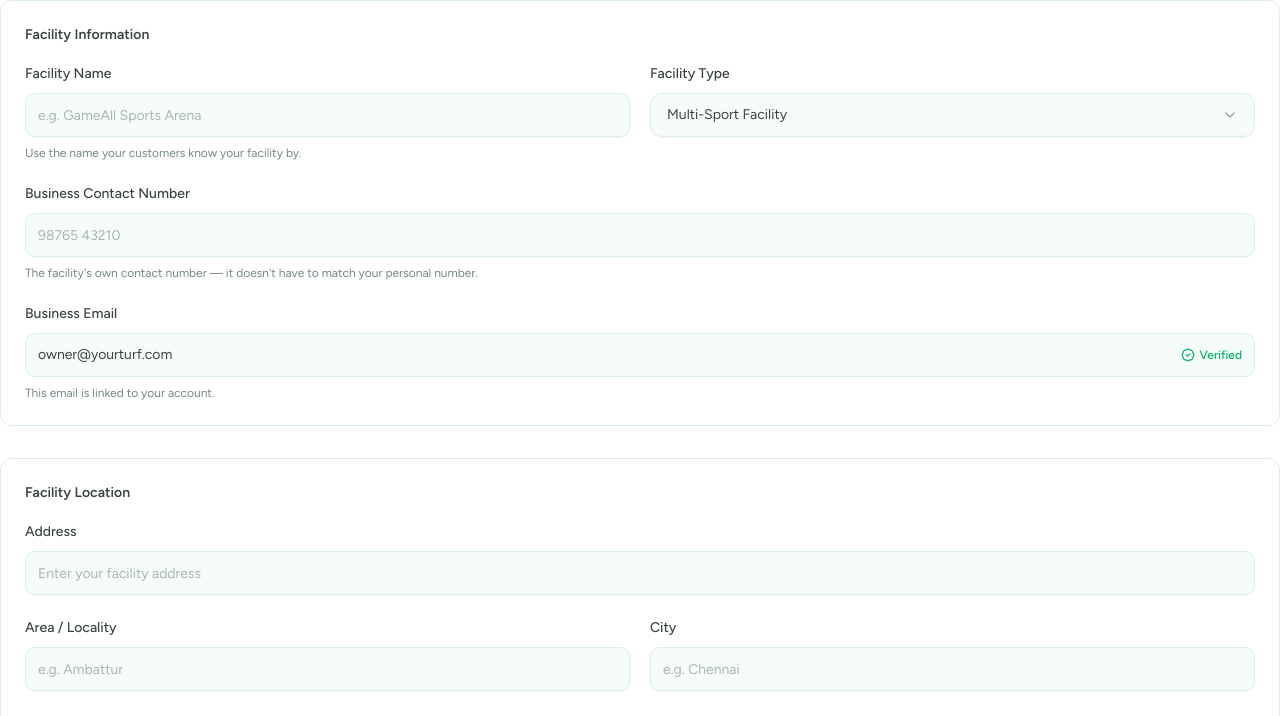
Scenario: FacilityDetailsForm › requires a custom type when Other is selected
What coordinates should you click on to do the following:
click the dropdown named "facility type"
I would click on:
 (727, 114)
Its box is top-left (650, 93), bottom-right (1255, 137).
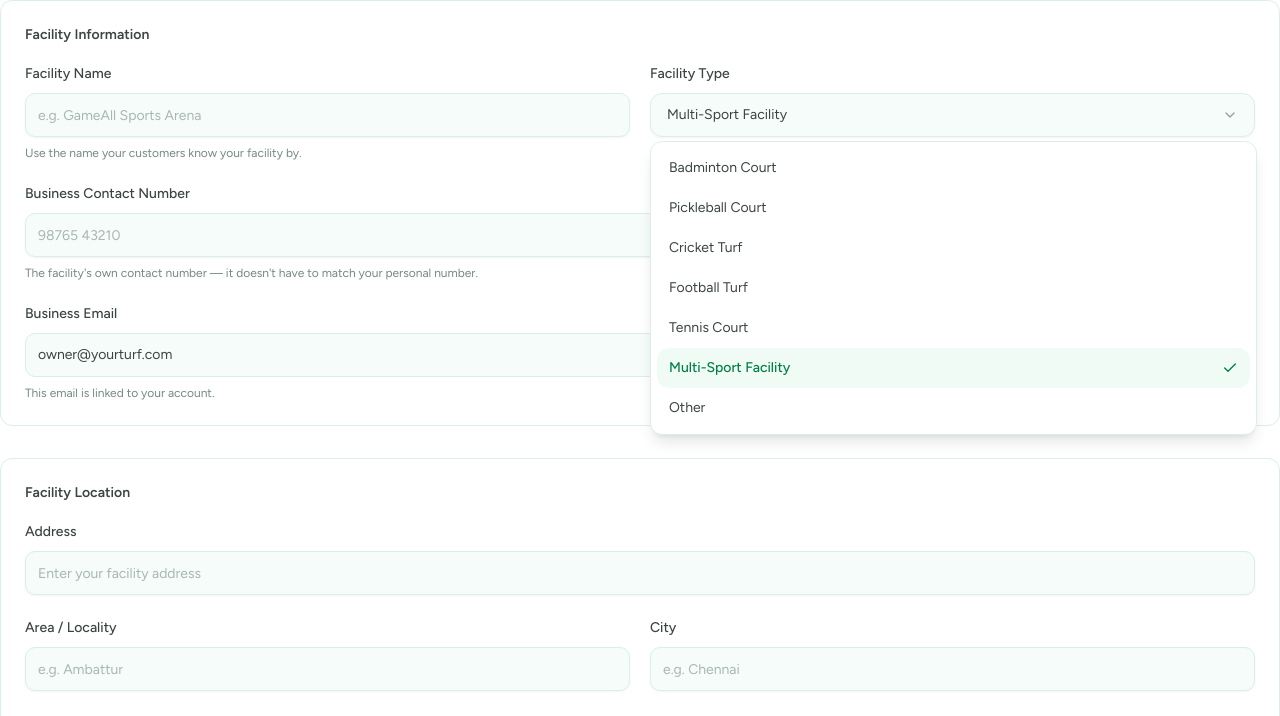
What coordinates should you click on to do the following:
click the option "Other"
I would click on:
 (687, 408)
Its box is top-left (669, 399), bottom-right (705, 416).
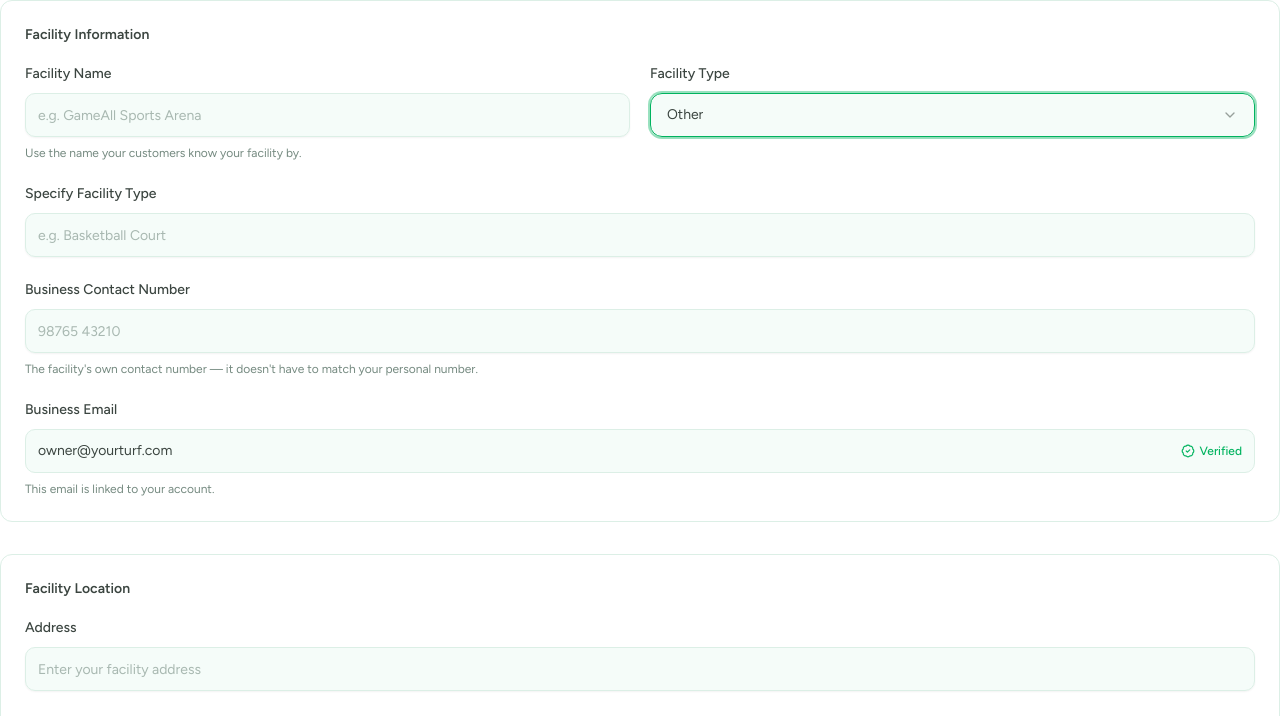
expect the field labelled "Specify Facility Type" is shown: met, box top-left (25, 213), bottom-right (1255, 257)
